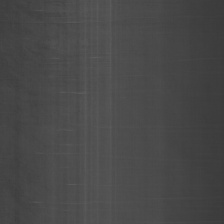waist_folding: (33, 23, 105, 200)
